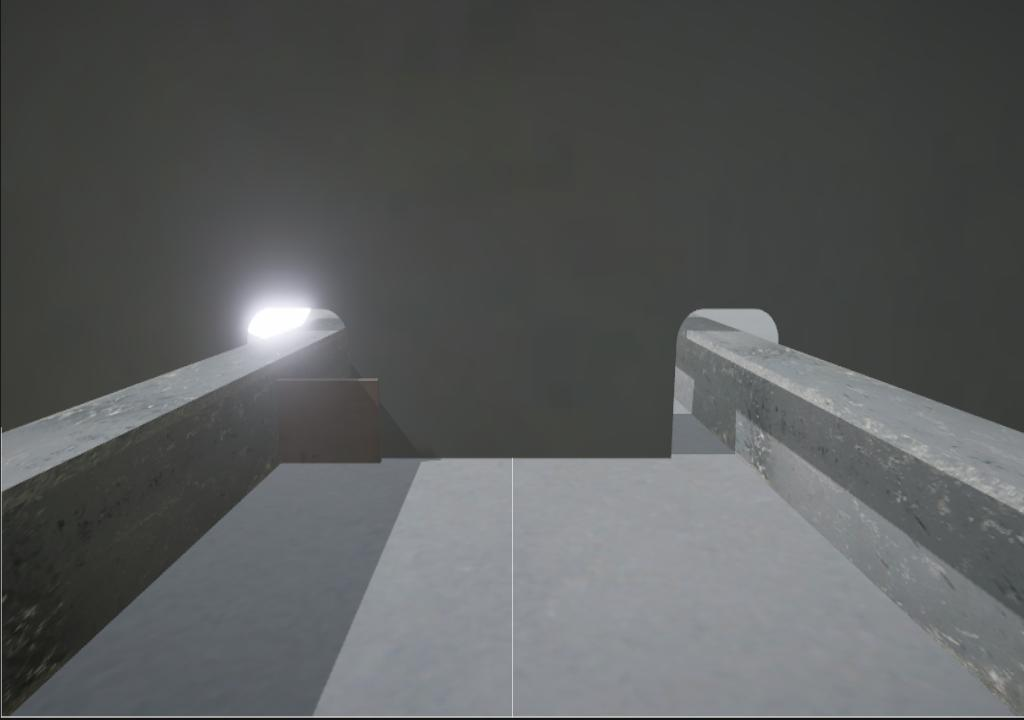fillet_yong_jeop_jang: (383, 448, 681, 468)
plate_CP01: (276, 378, 383, 464)
